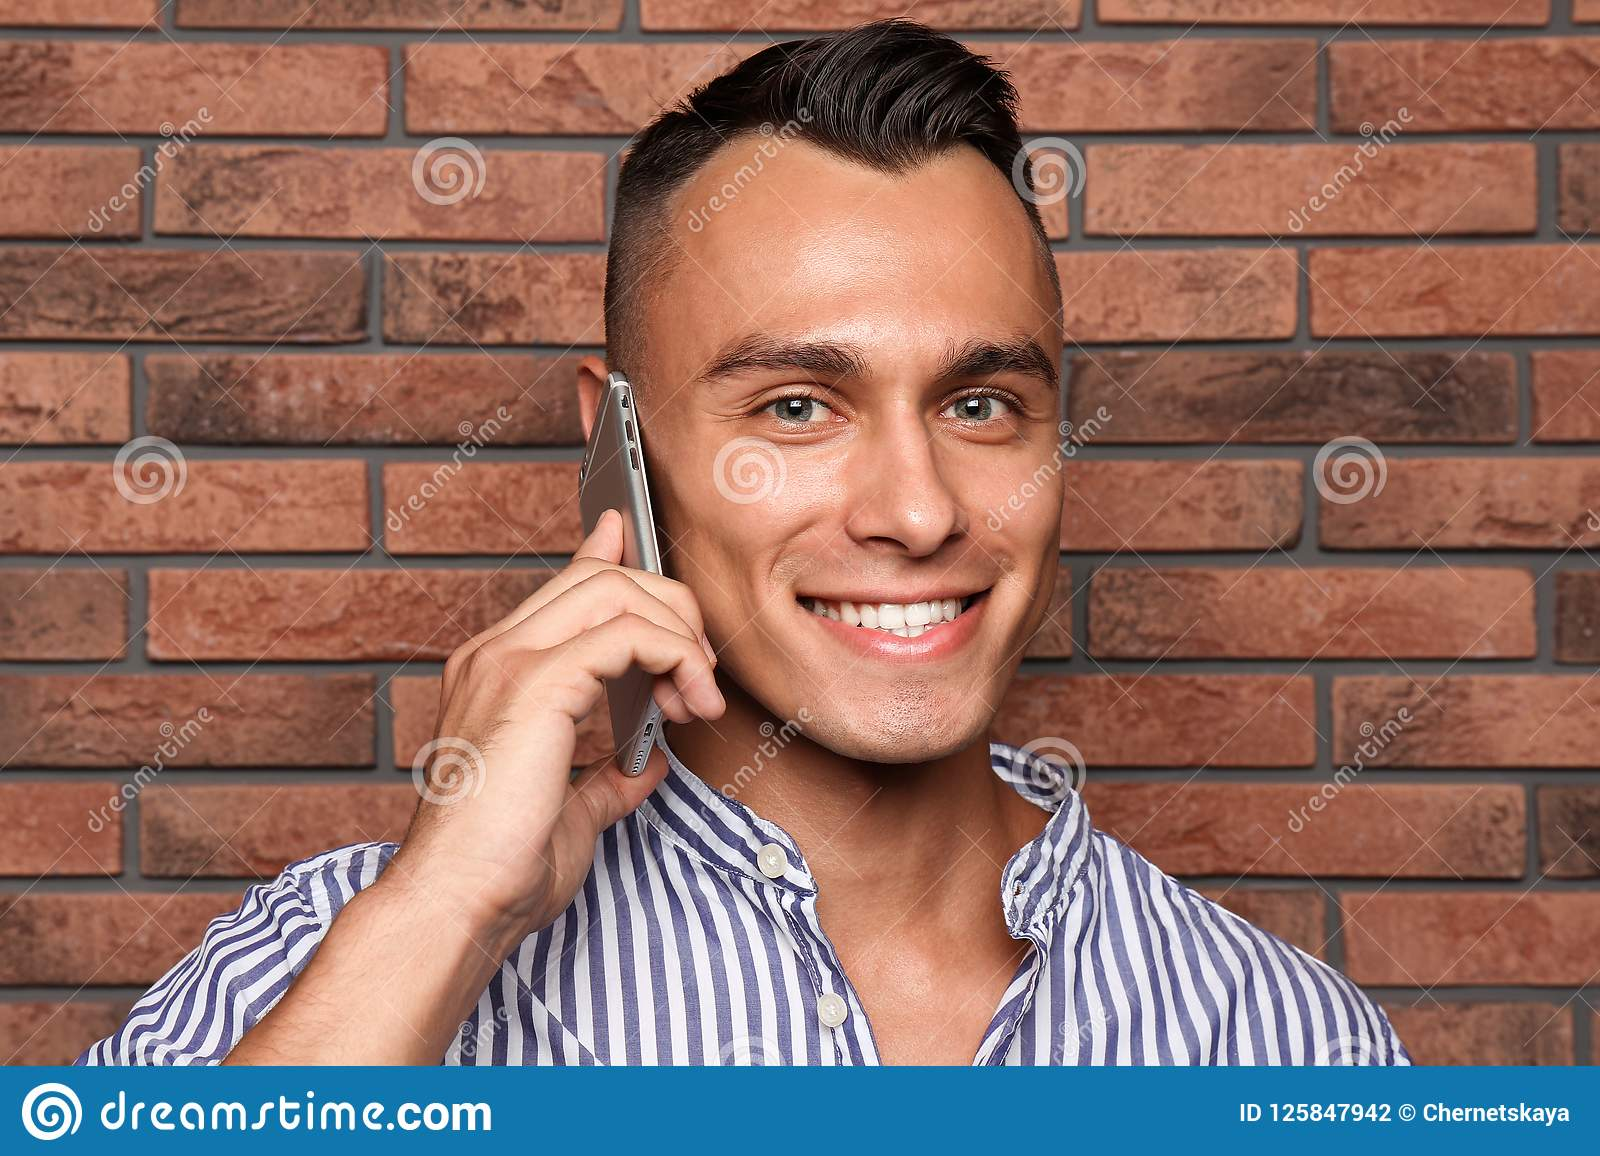phone: (566, 368, 677, 793)
talk: (383, 291, 1062, 1008)
